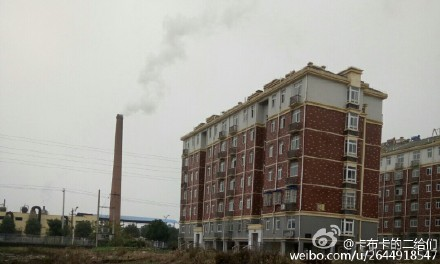dust: (113, 87, 159, 120)
